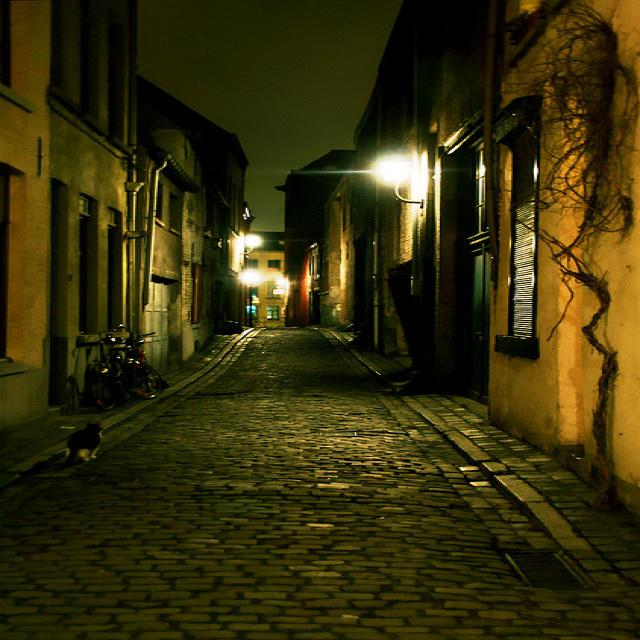Cat: (50, 405, 121, 477)
Motorbike: (77, 339, 190, 422)
